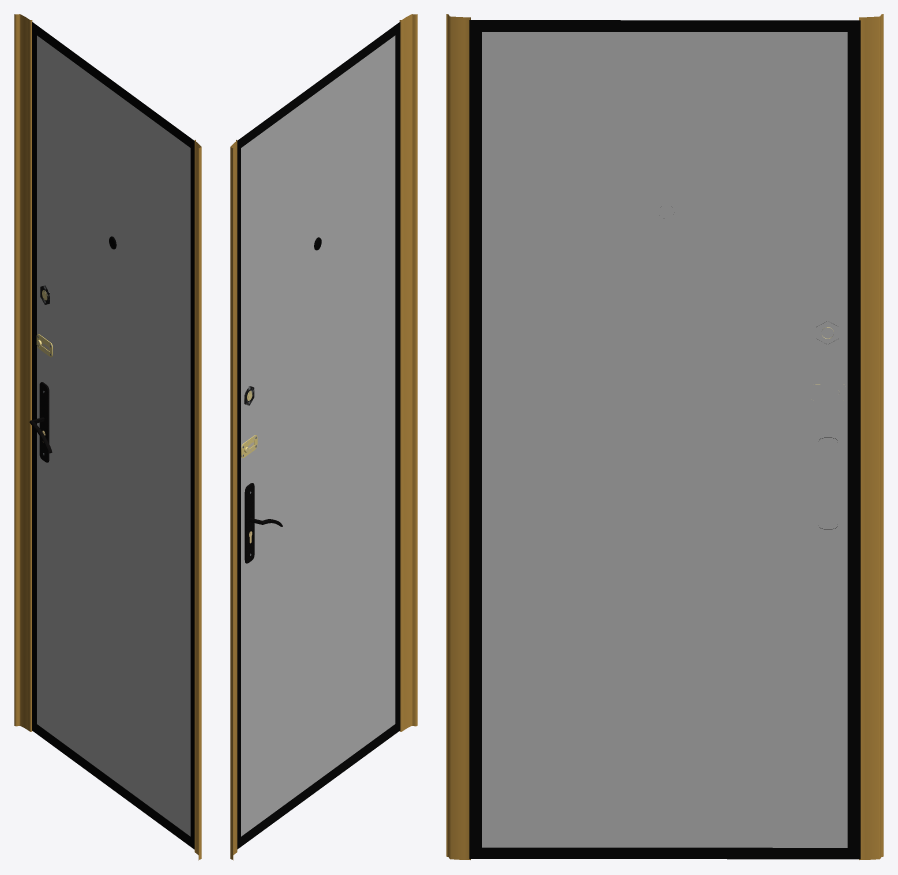
The picture shows the model from 3 angles, left to right: view 1: azimuth 30°, elevation 25°; view 2: azimuth 150°, elevation 25°; view 3: azimuth 270°, elevation 25°; orthographic projection. The views are drawn at different scales.
Parts seen in each view (by area): view 1: maindoor; view 2: maindoor; view 3: maindoor.
Part boxes in pixels (left/top/right/bottom): maindoor: left=14, top=14, right=201, bottom=860; maindoor: left=230, top=14, right=417, bottom=860; maindoor: left=446, top=14, right=883, bottom=859.
Size of the model in its own units: 4.33 by 186 by 87.43.
